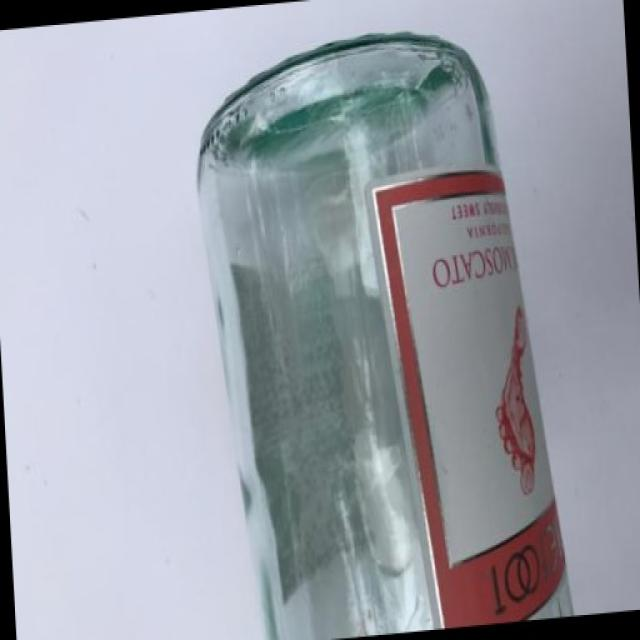vidrio: (160, 5, 622, 628)
